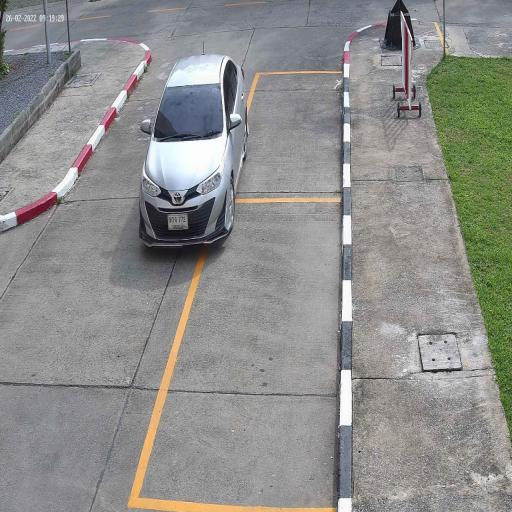car: (137, 53, 250, 250)
